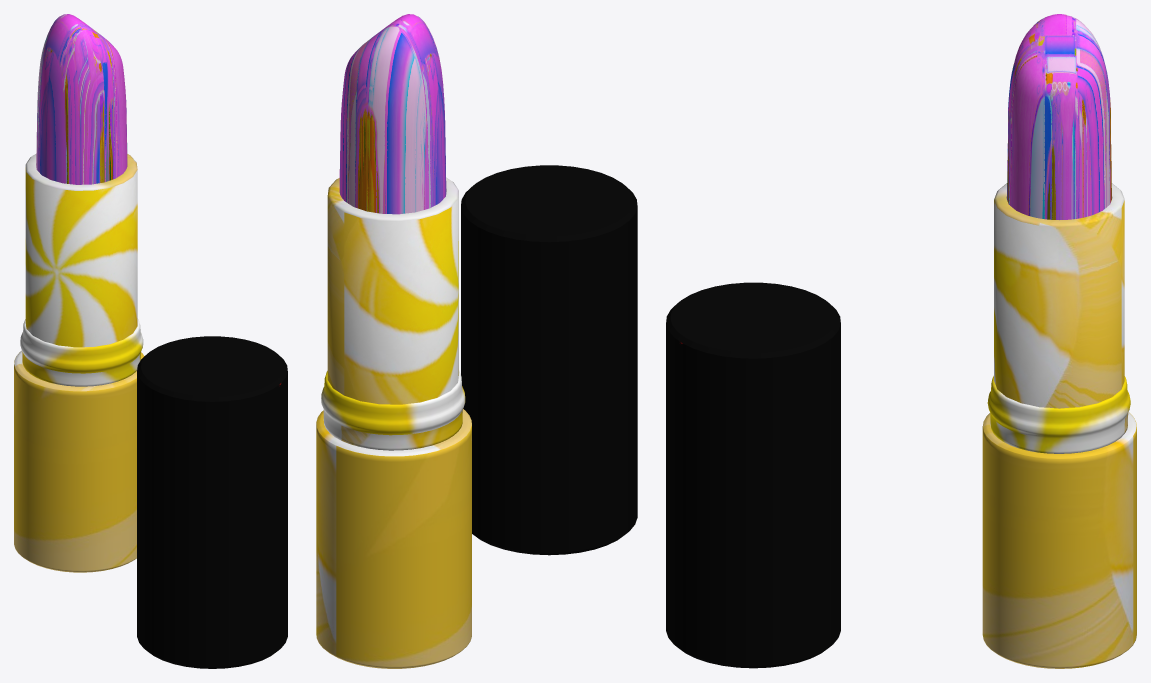
The model's file is lipstick.fbx.
3 views of the same model, side by side, from view 1: azimuth 30°, elevation 25°; view 2: azimuth 150°, elevation 25°; view 3: azimuth 270°, elevation 25° (orthographic). The views are drawn at different scales.
Parts seen in each view (by area): view 1: lipstick_cap_Material #30_0, lipstick_holder_Material #31_0, lipstick_red_Material #29_0; view 2: lipstick_holder_Material #31_0, lipstick_cap_Material #30_0, lipstick_red_Material #29_0; view 3: lipstick_holder_Material #31_0, lipstick_cap_Material #30_0, lipstick_red_Material #29_0.
Part boxes in pixels (x1,y1,x2,y2): lipstick_cap_Material #30_0: (137, 336, 287, 668); lipstick_holder_Material #31_0: (14, 153, 144, 572); lipstick_red_Material #29_0: (36, 14, 127, 184); lipstick_holder_Material #31_0: (316, 177, 471, 668); lipstick_cap_Material #30_0: (461, 165, 637, 555); lipstick_red_Material #29_0: (339, 14, 446, 214); lipstick_holder_Material #31_0: (982, 183, 1136, 668); lipstick_cap_Material #30_0: (666, 282, 840, 668); lipstick_red_Material #29_0: (1007, 14, 1111, 219).
Size of the model in its own units: 25.62 by 100 by 69.06.
